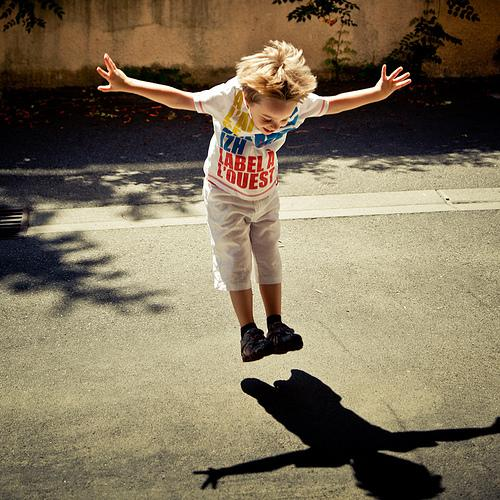person: (97, 39, 411, 368)
